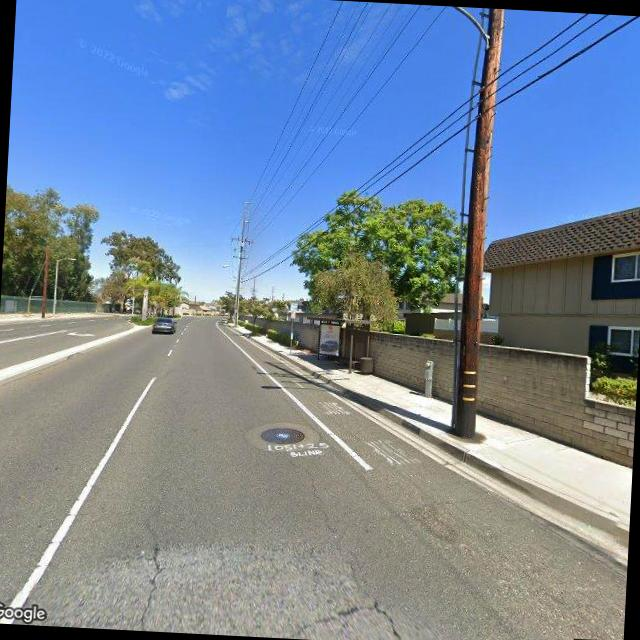pothole: (294, 460, 404, 638), (132, 530, 170, 630)
